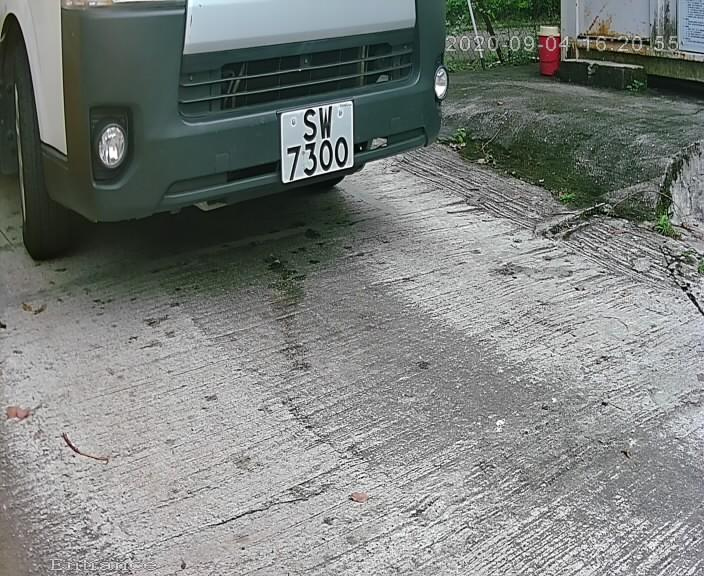License Plate: (271, 93, 365, 193)
